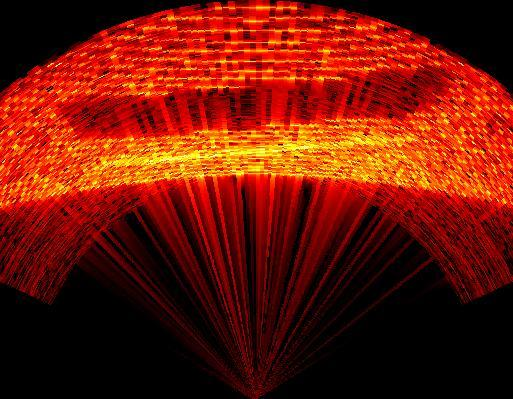pipe: (55, 68, 449, 139)
